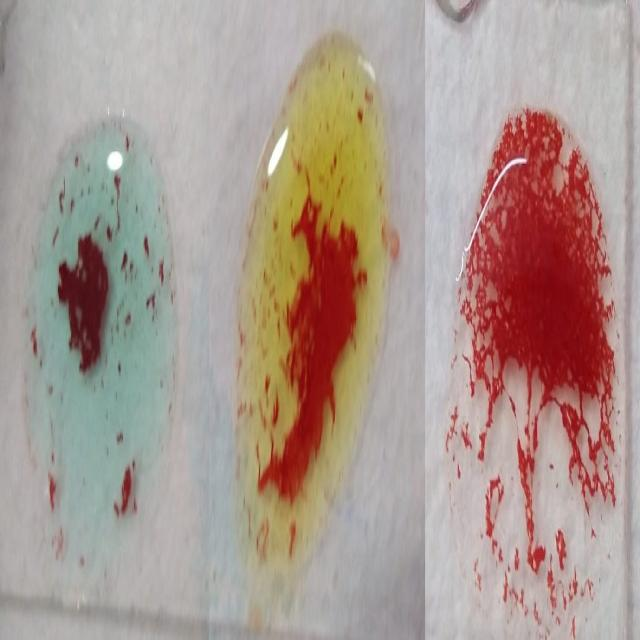A: (20, 110, 180, 592)
B: (235, 33, 384, 569)
D: (452, 98, 616, 639)
